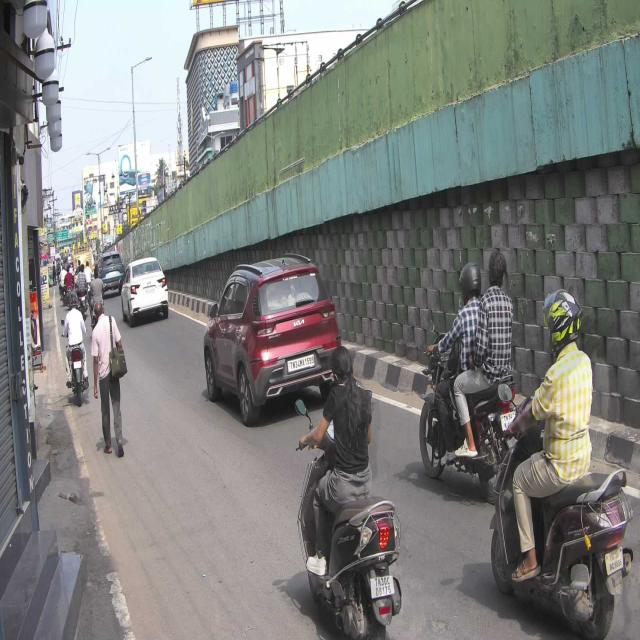double_rider: (418, 247, 513, 476)
single_rider: (494, 288, 636, 636), (294, 347, 404, 634)
